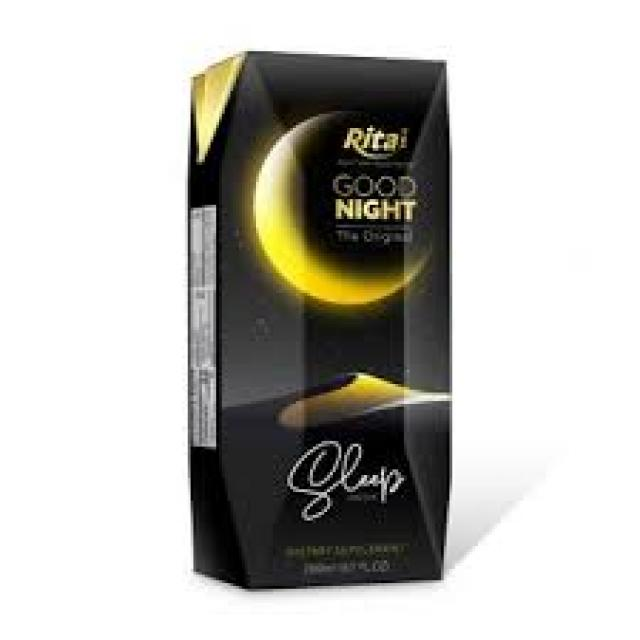non_white_jug: (152, 7, 491, 593)
